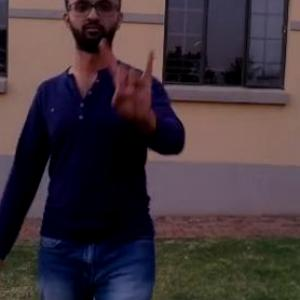takeoff-hand: (97, 34, 163, 126)
